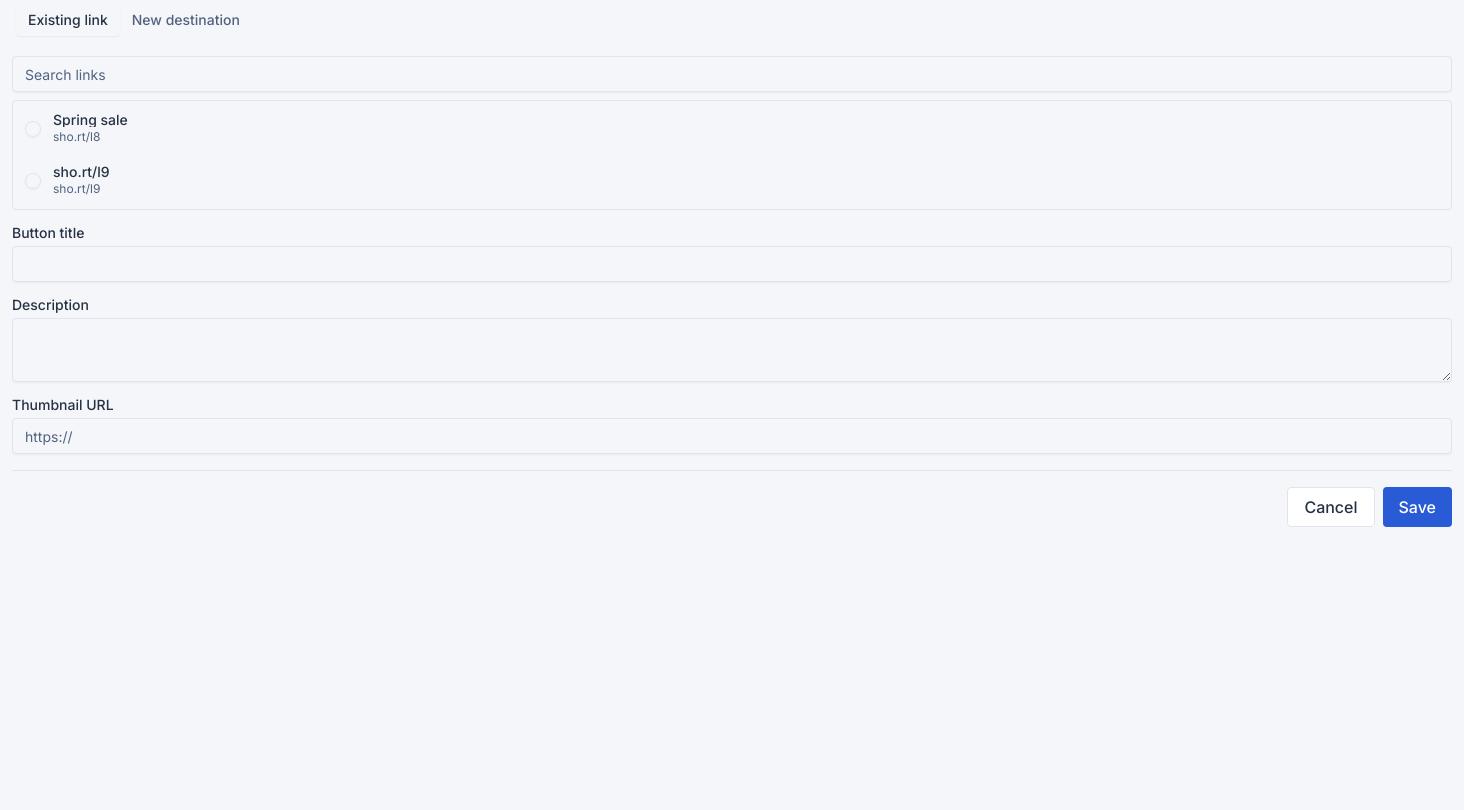
it: LinkBlockForm › shows validation messages when nothing is filled in
Click the button "Save": click(1417, 507) [1382, 487, 1452, 527]
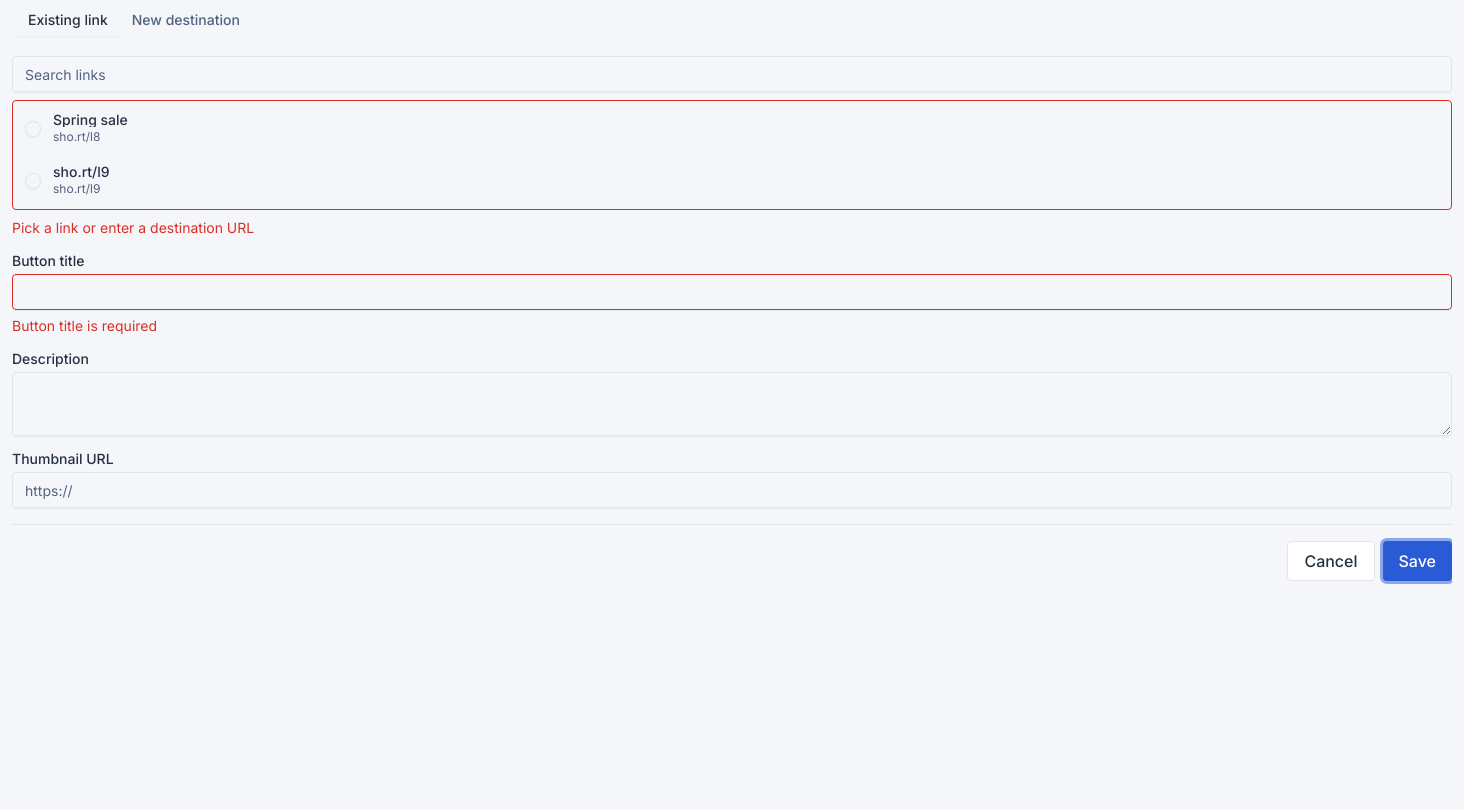
Check: the text "Pick a link or enter a destination URL" is shown, box [12, 219, 254, 236]
Check: the text "Button title is required" is shown, box [12, 317, 157, 334]
